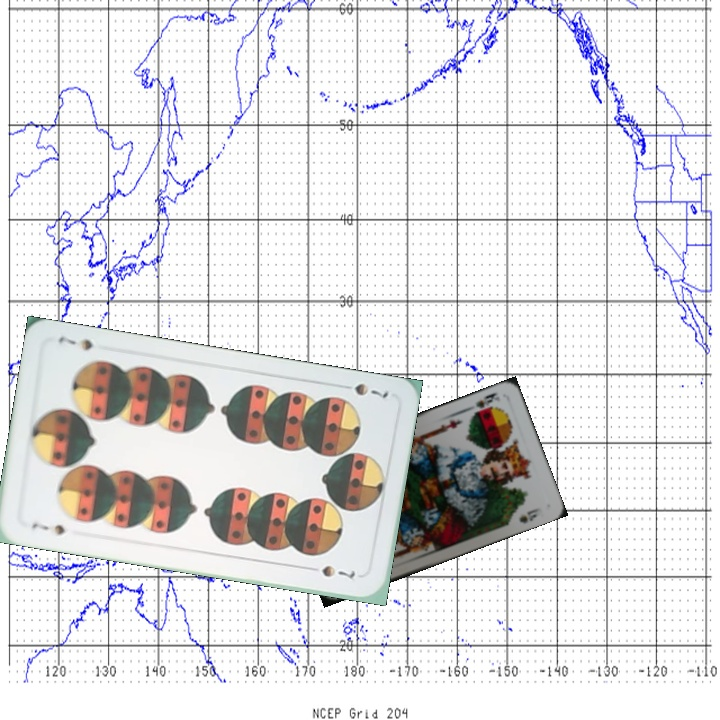S7: (335, 379, 391, 401), (27, 518, 68, 538)
SK: (470, 388, 503, 416)
